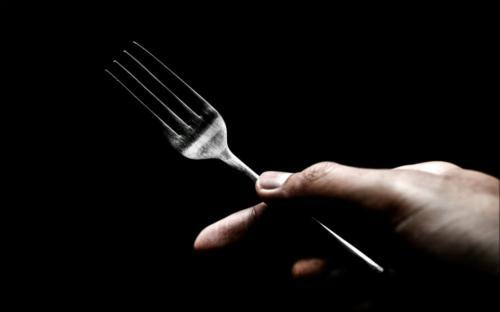Fork: (104, 41, 384, 272)
